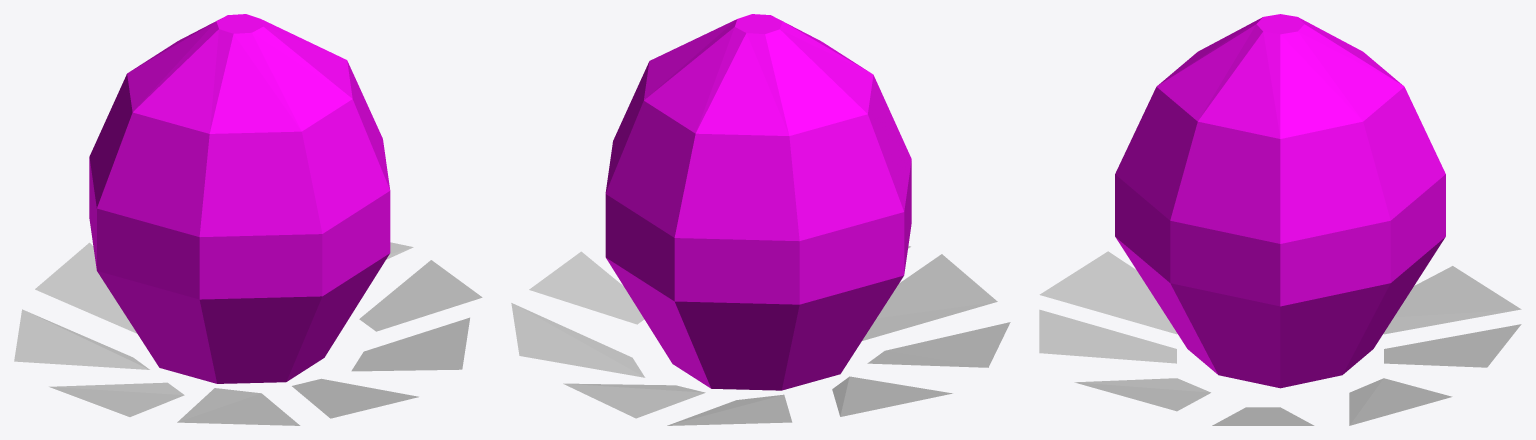
Rendered from bigegg.obj.
3 renders of one model, left to right at view 1: azimuth 30°, elevation 25°; view 2: azimuth 150°, elevation 25°; view 3: azimuth 270°, elevation 25°, orthographic.
Visible parts, largest first — view 1: bigegg_back; view 2: bigegg_back; view 3: bigegg_back.
Part boxes in pixels (bbox=[...]): bigegg_back: bbox=[14, 14, 482, 425]; bigegg_back: bbox=[511, 14, 1010, 425]; bigegg_back: bbox=[1039, 14, 1521, 425].
Bounding box in the file's own units: 1.4 × 1.04 × 1.4.
